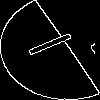I: (25, 25, 85, 59)
